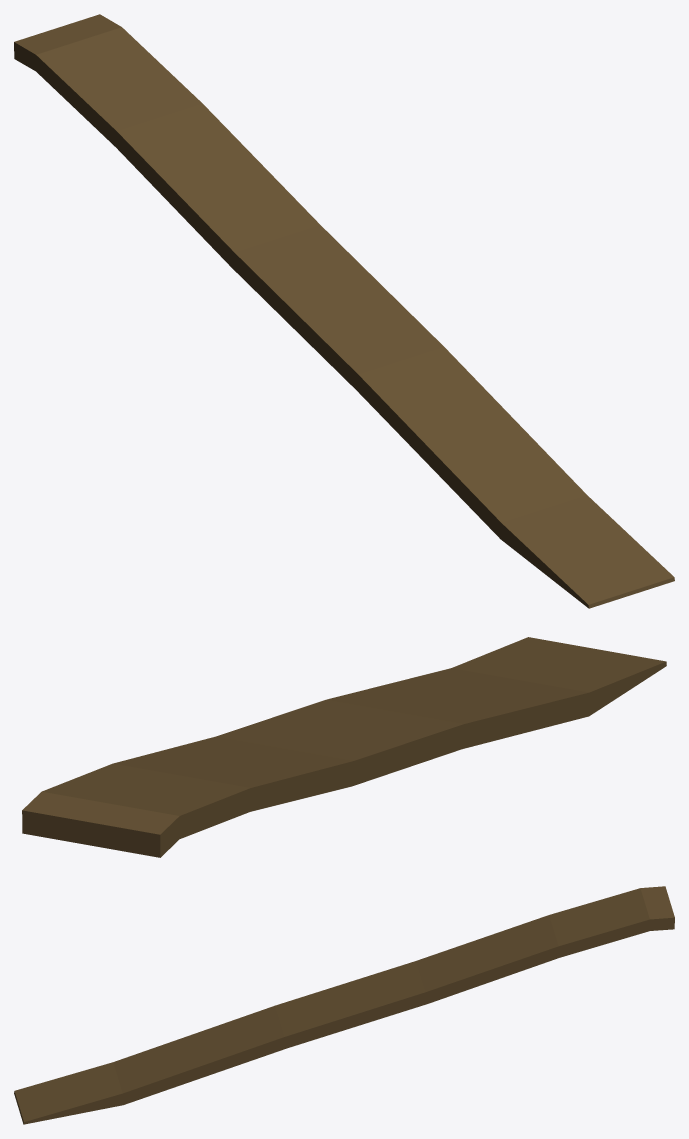
File: RampUp.fbx
3 renders of one model, top to bottom at view 1: azimuth 30°, elevation 25°; view 2: azimuth 150°, elevation 25°; view 3: azimuth 270°, elevation 25°, orthographic. The views are drawn at different scales.
Visible parts, largest first — view 1: puzzle 2.002; view 2: puzzle 2.002; view 3: puzzle 2.002.
Boxes of the visible parts, x1,y1,x2,y2 form: puzzle 2.002: [14, 14, 674, 608]; puzzle 2.002: [22, 637, 666, 857]; puzzle 2.002: [14, 886, 674, 1124].
Bounding box in the file's own units: 488 × 586 × 2045.
